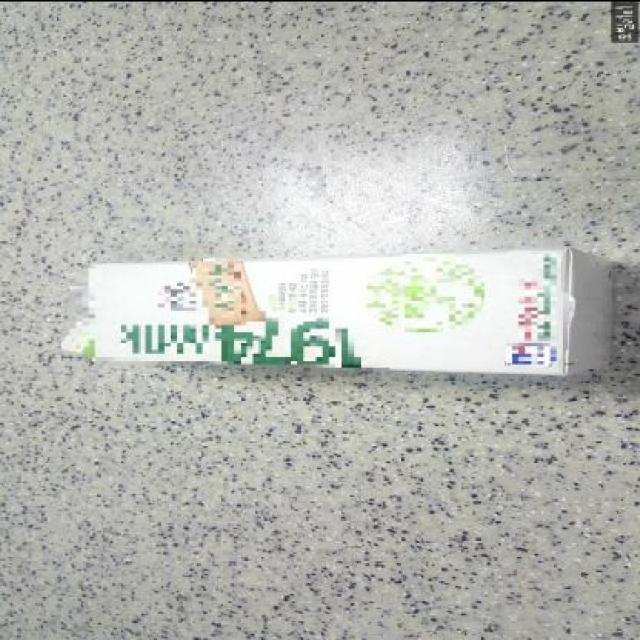non_white_jug: (44, 236, 638, 381)
